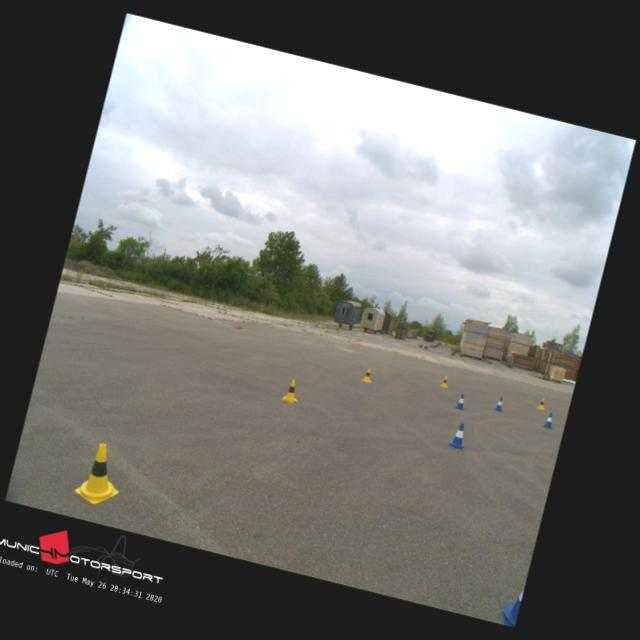blue_cone: (448, 422, 468, 448), (454, 392, 468, 409), (543, 410, 555, 428), (494, 396, 504, 411)
yellow_cone: (73, 440, 128, 508), (281, 377, 302, 402), (359, 366, 374, 383), (536, 396, 546, 410), (439, 375, 449, 387)
